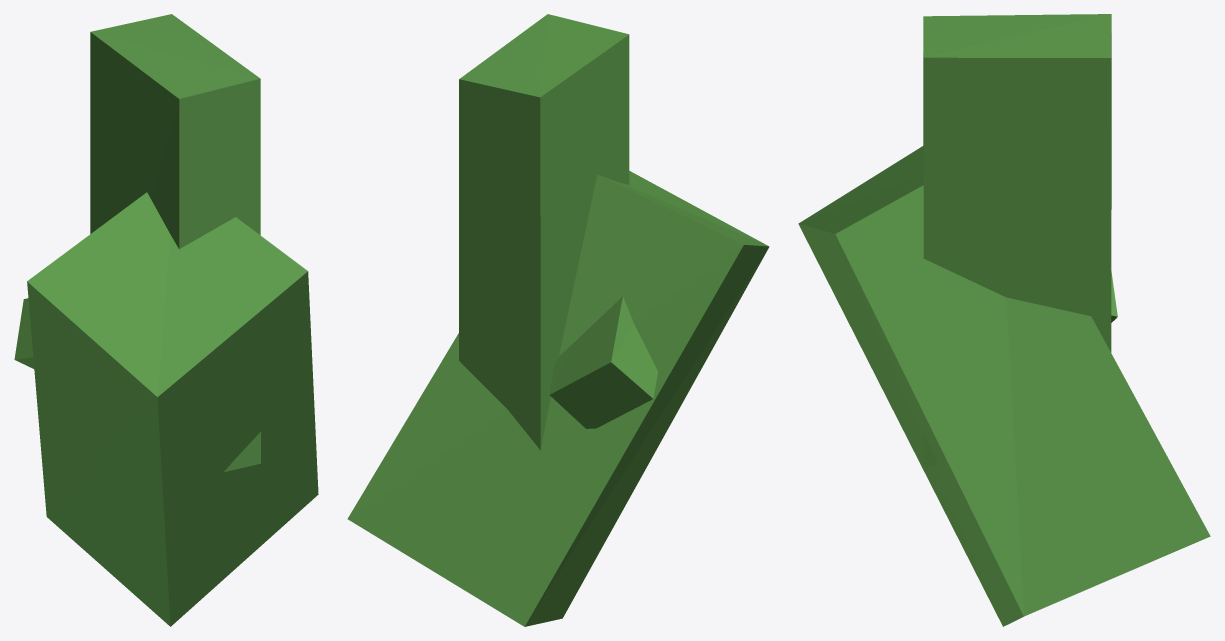
3 renders of one model, left to right at view 1: azimuth 30°, elevation 25°; view 2: azimuth 150°, elevation 25°; view 3: azimuth 270°, elevation 25°, orthographic. The views are drawn at different scales.
Parts seen in each view (by area): view 1: 782_Cube.3150; view 2: 782_Cube.3150; view 3: 782_Cube.3150.
Part boxes in pixels (<box>): 782_Cube.3150: <box>14,14,318,626</box>; 782_Cube.3150: <box>347,14,769,626</box>; 782_Cube.3150: <box>798,14,1210,626</box>.
Bounding box in the file's own units: 10.44 × 17.6 × 11.
